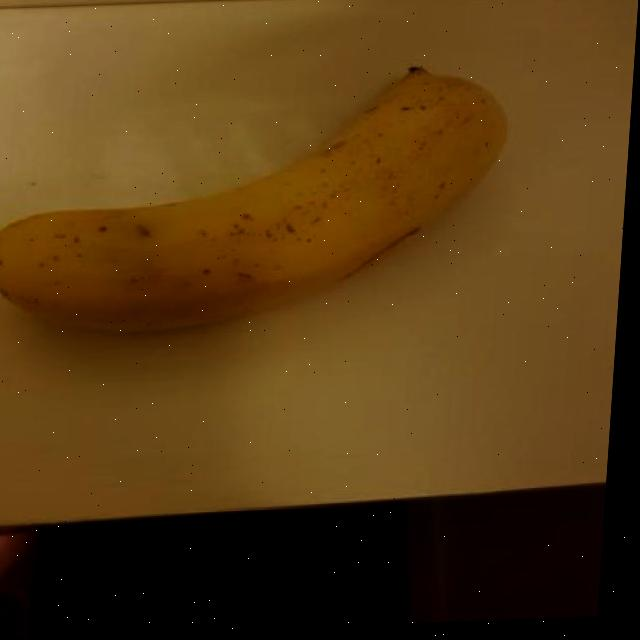banana: (0, 39, 511, 351)
